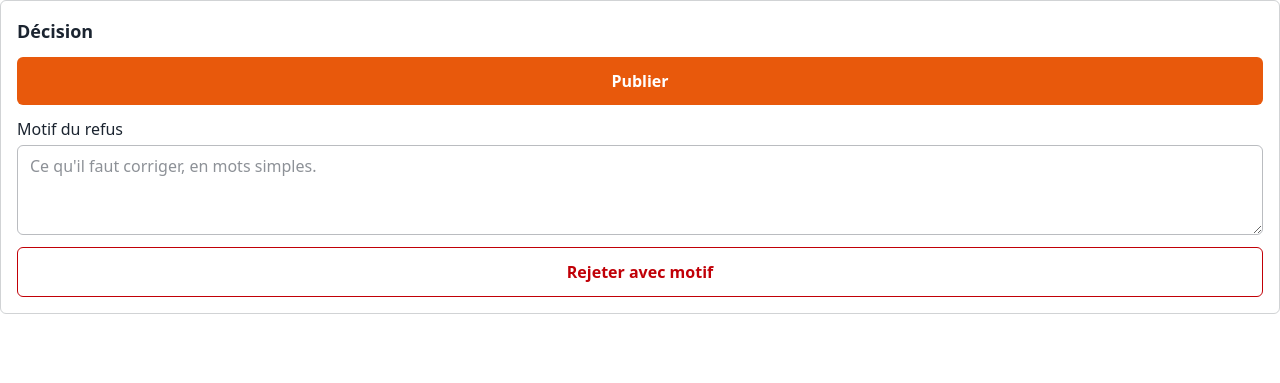
Test case: ListingDecision › rejects with the reason, and shows a refusal of the API
In the text box labelled "Motif du refus": coordinates (640, 190) [17, 145, 1263, 235], type "Ajoutez une description."
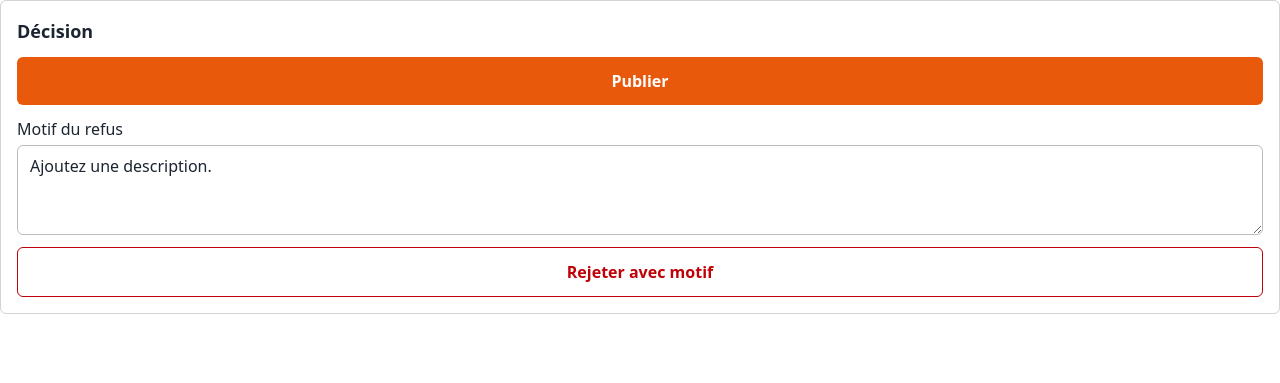
Click the button "Rejeter avec motif": coordinates (640, 272) [17, 247, 1263, 297]
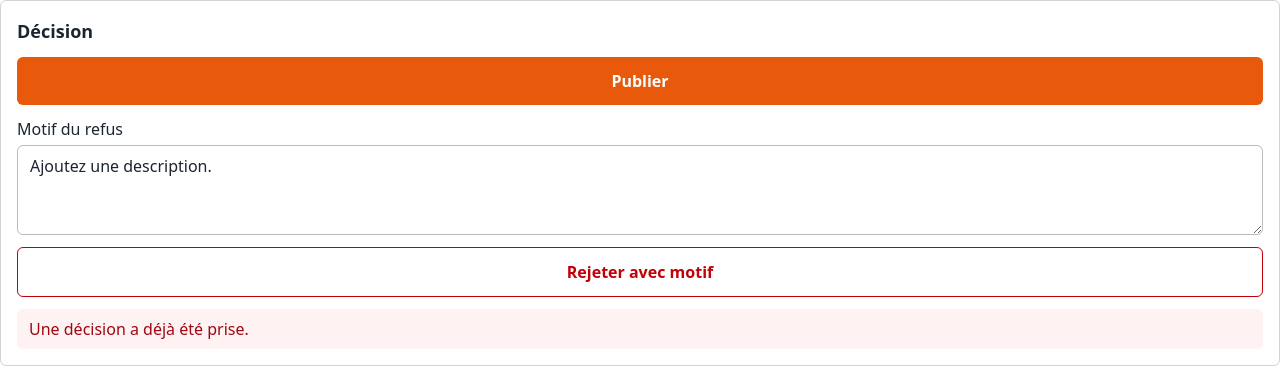
Now the message reads "Une décision a déjà été prise.", box [29, 318, 249, 340]
